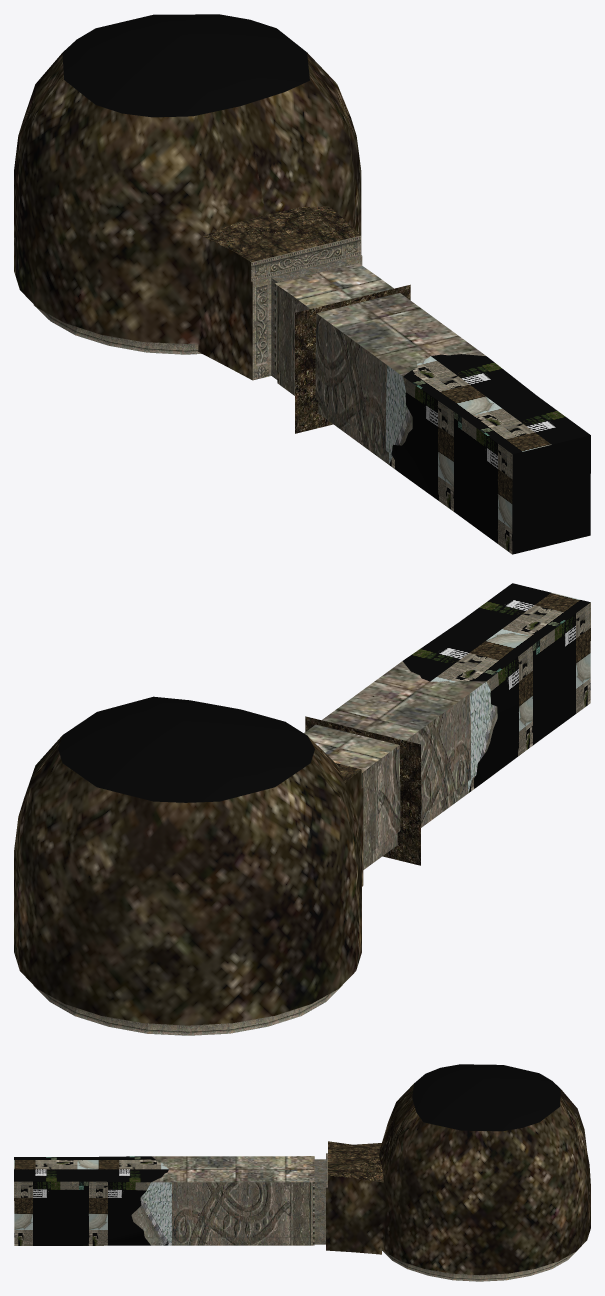
Rendered from fairy.gltf.
The picture shows the model from 3 angles, top to bottom: view 1: azimuth 30°, elevation 25°; view 2: azimuth 150°, elevation 25°; view 3: azimuth 270°, elevation 25°; orthographic projection. The views are drawn at different scales.
Parts seen in each view (by area): view 1: fairys_fountain_town.001; view 2: fairys_fountain_town.001; view 3: fairys_fountain_town.001.
Boxes of the visible parts, x1,y1,x2,y2 form: fairys_fountain_town.001: (14,14,590,554); fairys_fountain_town.001: (14,583,590,1035); fairys_fountain_town.001: (14,1064,590,1281).
Size of the model in its own units: 12.67 by 10.54 by 32.86.
Materials: 1 (1 with a texture image).
